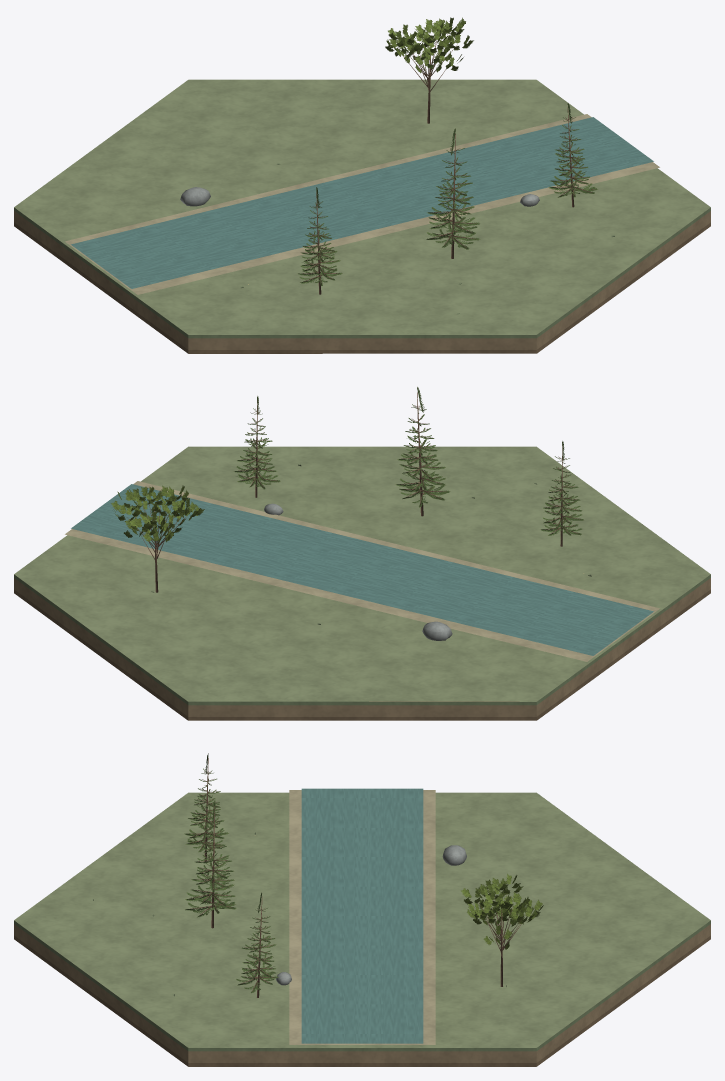
The model's file is rio_recto.glb.
3 views of the same model, one above another, from view 1: azimuth 30°, elevation 25°; view 2: azimuth 150°, elevation 25°; view 3: azimuth 270°, elevation 25° (orthographic).
Visible parts, largest first — view 1: rio_recto.010 / 0, rio_recto.010 / 4, rio_recto.010 / 5, rio_recto.010 / 6, rio_recto.010 / 1, rio_recto.010 / 2; view 2: rio_recto.010 / 0, rio_recto.010 / 4, rio_recto.010 / 5, rio_recto.010 / 6, rio_recto.010 / 1, rio_recto.010 / 2; view 3: rio_recto.010 / 0, rio_recto.010 / 4, rio_recto.010 / 5, rio_recto.010 / 6, rio_recto.010 / 1, rio_recto.010 / 2.
Boxes of the visible parts, x1,y1,x2,y2 form: rio_recto.010 / 0: [14, 79, 710, 353]; rio_recto.010 / 4: [71, 117, 653, 288]; rio_recto.010 / 5: [297, 103, 597, 285]; rio_recto.010 / 6: [385, 17, 473, 73]; rio_recto.010 / 1: [302, 32, 595, 294]; rio_recto.010 / 2: [180, 187, 539, 206]; rio_recto.010 / 0: [14, 446, 710, 720]; rio_recto.010 / 4: [71, 484, 653, 655]; rio_recto.010 / 5: [233, 387, 583, 535]; rio_recto.010 / 6: [111, 485, 204, 542]; rio_recto.010 / 1: [127, 392, 580, 592]; rio_recto.010 / 2: [264, 503, 452, 640]; rio_recto.010 / 0: [14, 790, 710, 1066]; rio_recto.010 / 4: [301, 788, 423, 1043]; rio_recto.010 / 5: [184, 753, 278, 993]; rio_recto.010 / 6: [461, 873, 543, 949]; rio_recto.010 / 1: [188, 757, 521, 997]; rio_recto.010 / 2: [276, 845, 466, 985].
Bounding box in the file's own units: 3.46 × 0.9554 × 4.
6 materials, 6 textured.
